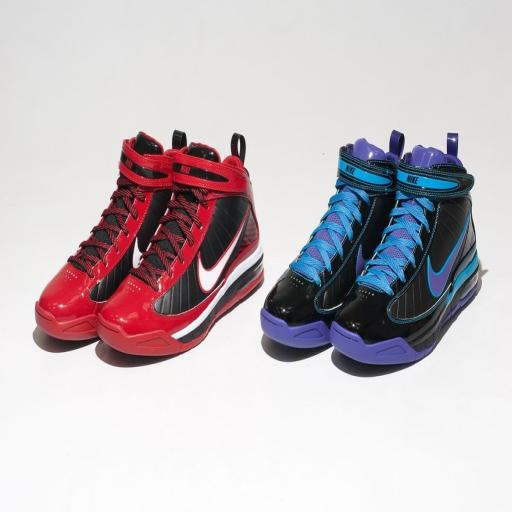shoe: (98, 133, 263, 356), (330, 133, 479, 364), (35, 131, 186, 341), (260, 131, 404, 348)
